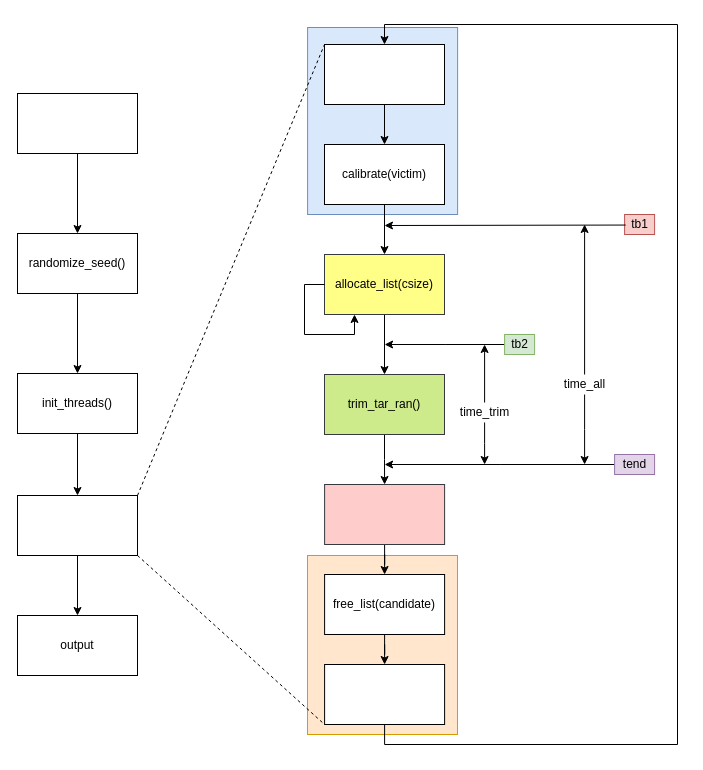
This 703x770 diagram has some shape labels left out. Each missing label, with the centre of its shape:
"free_list(victim)" belongs at (384,694).
"init_cfg()" belongs at (77,123).
"loop_test()" belongs at (77,525).
"test_tar_pthread()" belongs at (384,514).
"victim" belongs at (384,74).
